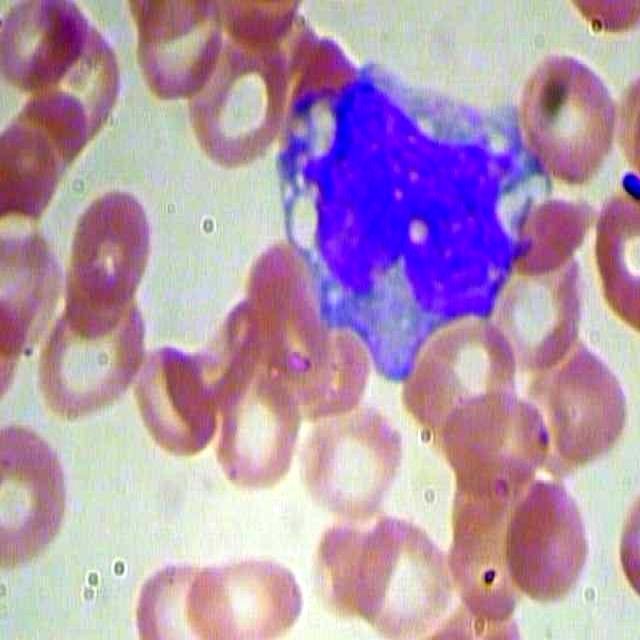RBC: (35, 279, 150, 428), (517, 49, 628, 191), (299, 396, 411, 516), (183, 550, 312, 640), (1, 423, 75, 568), (503, 480, 592, 599), (542, 347, 631, 465), (68, 186, 153, 306), (129, 338, 214, 458), (441, 390, 547, 482), (130, 560, 234, 640)
WBC: (283, 56, 551, 392)
